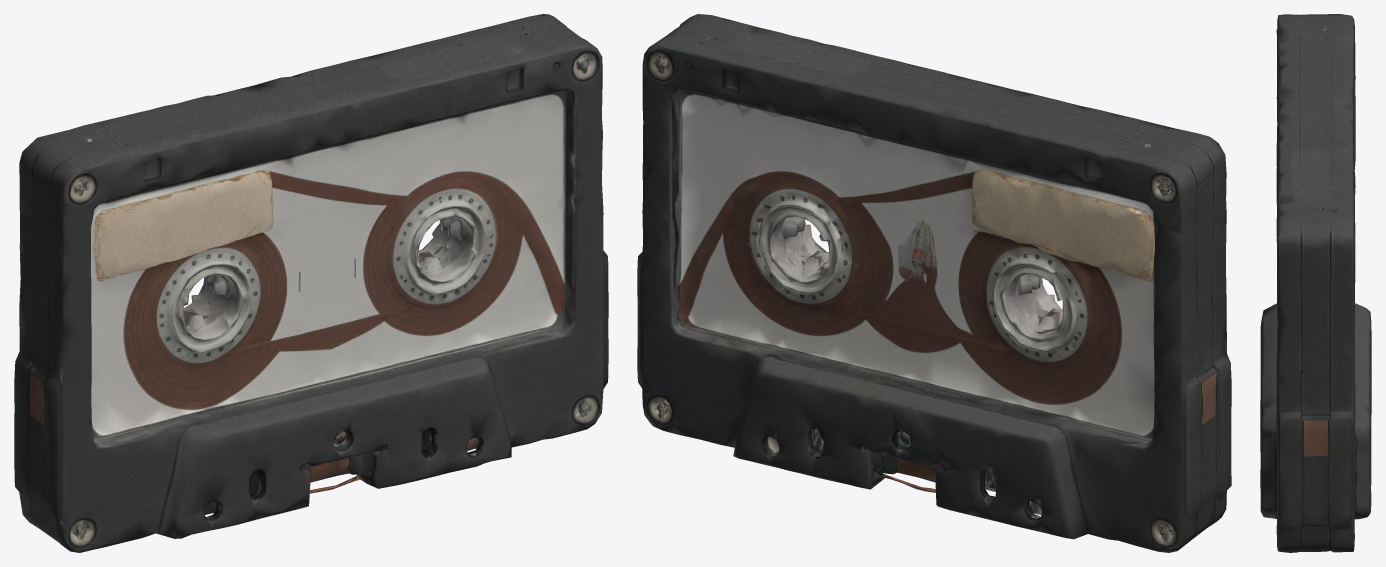
The model's file is CassetteTape.glb.
3 views of the same model, side by side, from view 1: azimuth 30°, elevation 25°; view 2: azimuth 150°, elevation 25°; view 3: azimuth 270°, elevation 25° (orthographic). The views are drawn at different scales.
Visible parts, largest first — view 1: texture_mapping; view 2: texture_mapping; view 3: texture_mapping.
Part boxes in pixels (x1,y1,x2,y2): texture_mapping: [14, 14, 608, 552]; texture_mapping: [637, 14, 1231, 552]; texture_mapping: [1260, 14, 1371, 552].
Size of the model in its own units: 1 by 0.6772 by 0.2054.
1 material, 1 textured.
